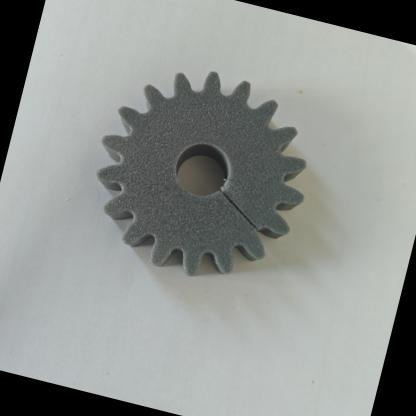defect: (63, 144, 157, 224), (229, 130, 312, 218)
gear: (32, 23, 337, 300)
